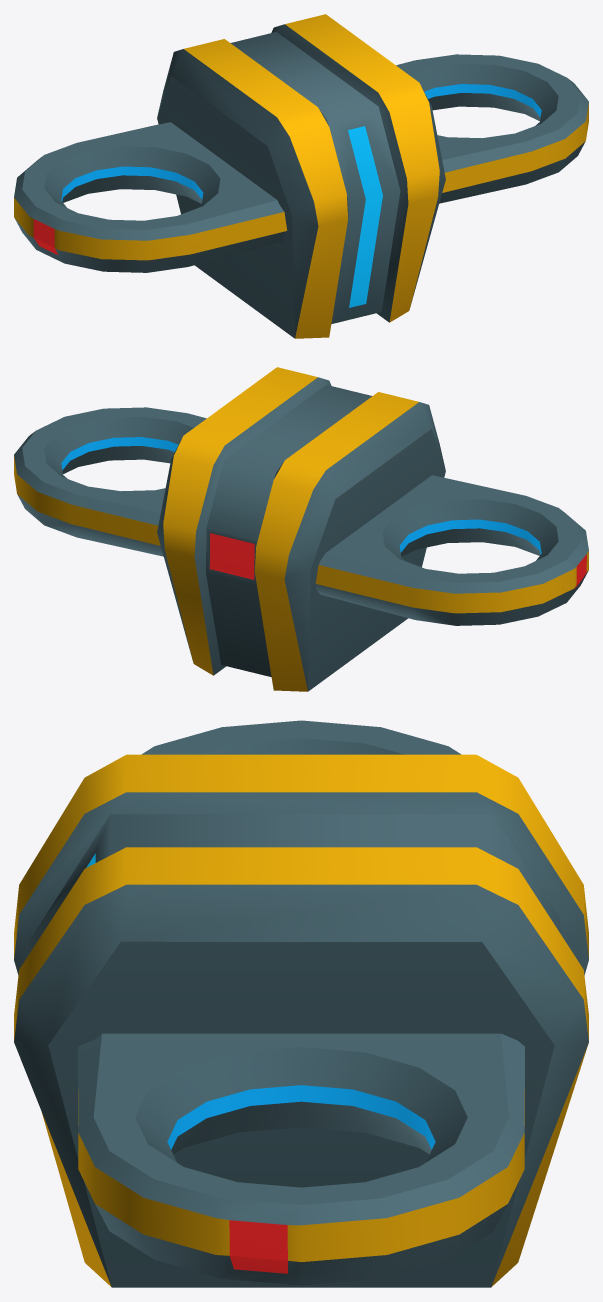
File: Delivery_drone_006.glb
3 renders of one model, top to bottom at view 1: azimuth 30°, elevation 25°; view 2: azimuth 150°, elevation 25°; view 3: azimuth 270°, elevation 25°, orthographic. The views are drawn at different scales.
Parts seen in each view (by area): view 1: Delivery_drone_006; view 2: Delivery_drone_006; view 3: Delivery_drone_006.
Boxes of the visible parts, x1=… form: Delivery_drone_006: x1=14, y1=14, x2=588, y2=338; Delivery_drone_006: x1=14, y1=367, x2=588, y2=691; Delivery_drone_006: x1=14, y1=720, x2=588, y2=1287.
Bounding box in the file's own units: 0.9184 × 0.3575 × 0.4483.
Materials: 2 (2 with a texture image).
